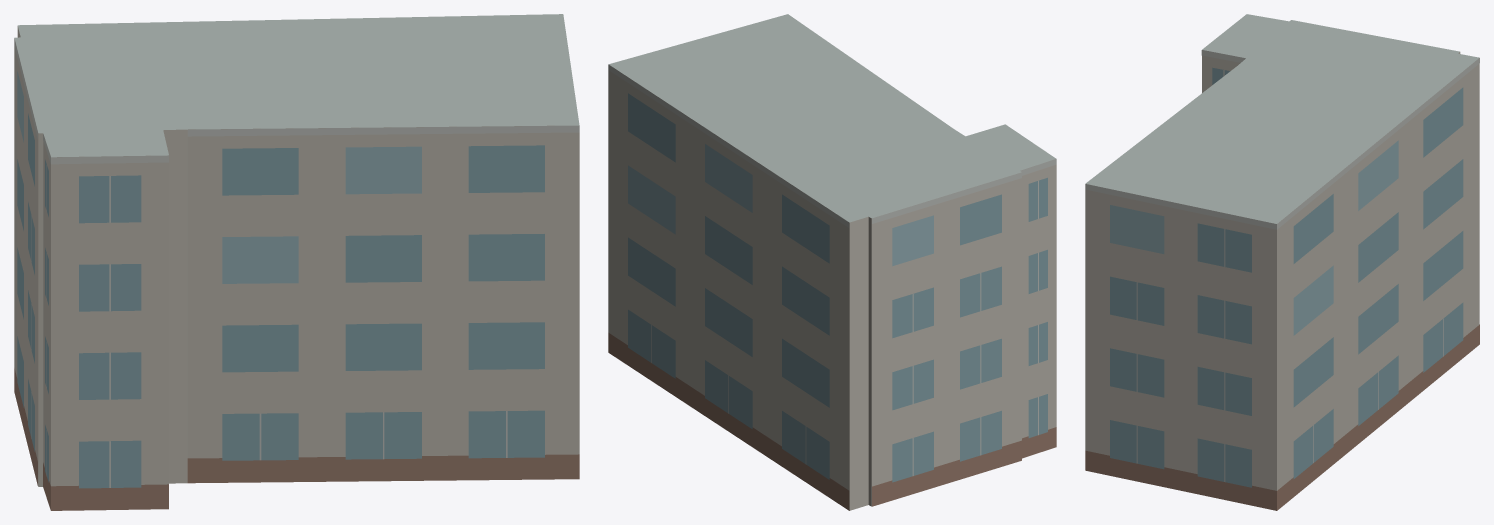
The model's file is survey-upis-32781284.glb.
3 views of the same model, side by side, from view 1: azimuth 30°, elevation 25°; view 2: azimuth 150°, elevation 25°; view 3: azimuth 270°, elevation 25° (orthographic). The views are drawn at different scales.
Parts seen in each view (by area): view 1: survey-upis-32781284.tmp; view 2: survey-upis-32781284.tmp; view 3: survey-upis-32781284.tmp.
Part boxes in pixels (left/top/right/bottom): survey-upis-32781284.tmp: left=14, top=14, right=579, bottom=510; survey-upis-32781284.tmp: left=608, top=14, right=1056, bottom=510; survey-upis-32781284.tmp: left=1085, top=14, right=1479, bottom=510.
Bounding box in the file's own units: 19.18 × 12.2 × 15.22.
